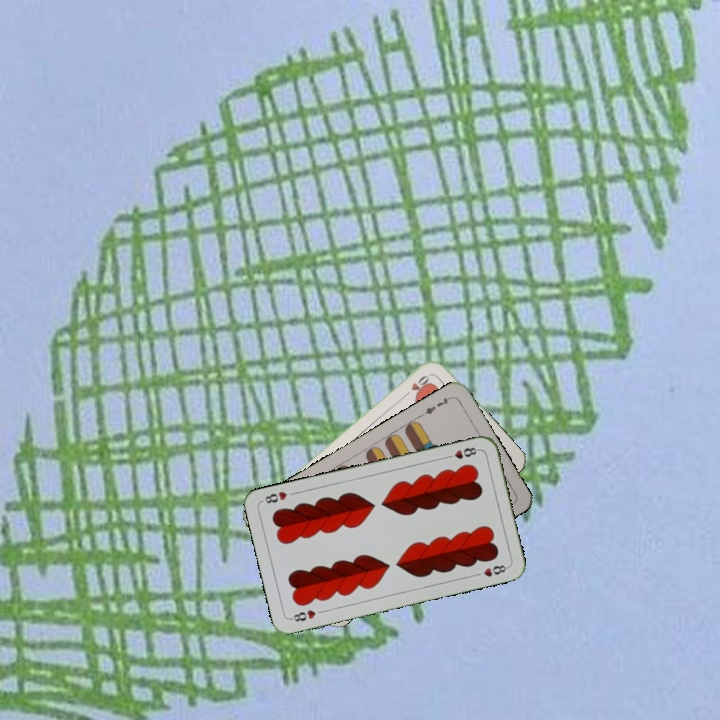E7: (418, 393, 455, 418)
H8: (442, 443, 482, 462), (287, 606, 318, 624)
HO: (399, 370, 433, 400)
